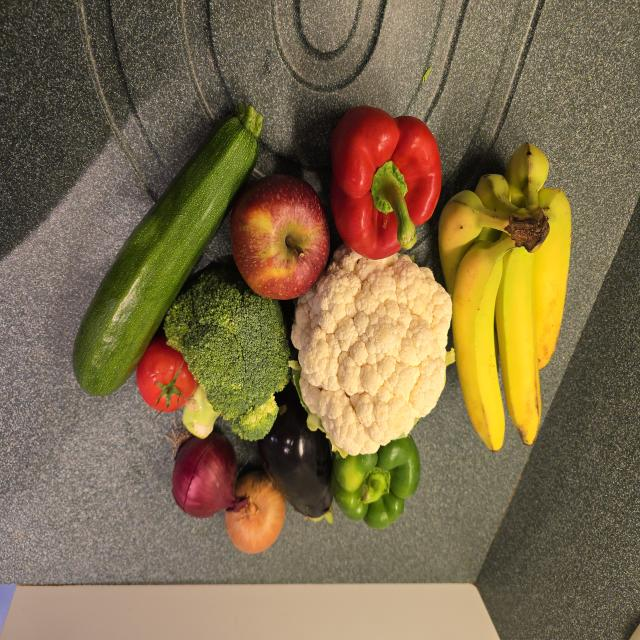Apple: (230, 175, 329, 300)
Banana: (439, 143, 571, 451)
Bell Pepper: (329, 103, 441, 259), (331, 435, 420, 530)
Broccoli: (163, 267, 289, 441)
Cauliflower: (291, 245, 452, 455)
Courgette: (73, 105, 264, 396)
Eggplant: (258, 382, 333, 525)
Onion: (172, 432, 244, 518), (225, 471, 285, 553)
Tomato: (136, 333, 198, 412)
